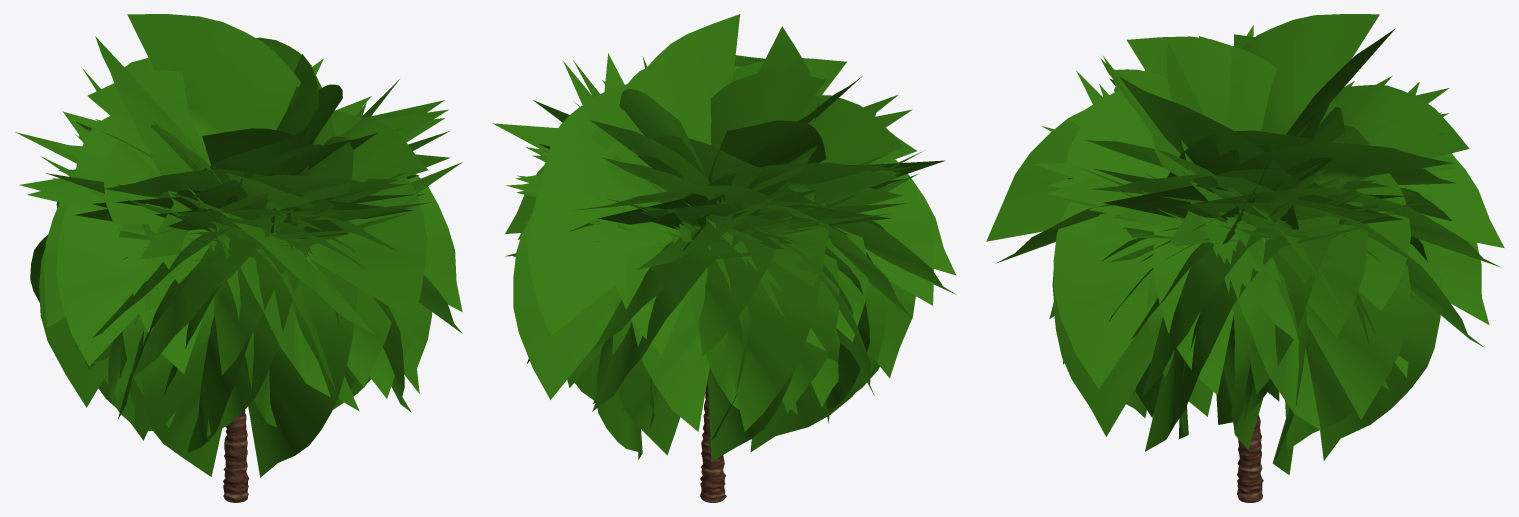
The model's file is SM_PalmTree02.fbx.
3 views of the same model, side by side, from view 1: azimuth 30°, elevation 25°; view 2: azimuth 150°, elevation 25°; view 3: azimuth 270°, elevation 25° (orthographic). The views are drawn at different scales.
Parts seen in each view (by area): view 1: SM_PalmTree02_LOD0; view 2: SM_PalmTree02_LOD0; view 3: SM_PalmTree02_LOD0.
Part boxes in pixels (x1,y1,x2,y2): SM_PalmTree02_LOD0: (15, 14, 462, 502); SM_PalmTree02_LOD0: (492, 14, 956, 502); SM_PalmTree02_LOD0: (986, 14, 1504, 502).
Size of the model in its own units: 1605 by 1781 by 1711.
Materials: 2 (2 with a texture image).
